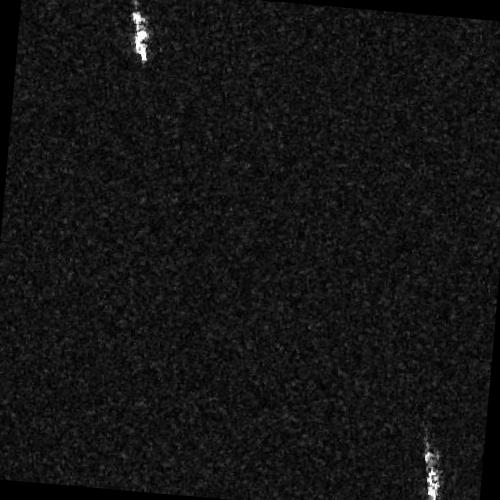ship: (130, 8, 149, 64), (423, 445, 440, 500)
